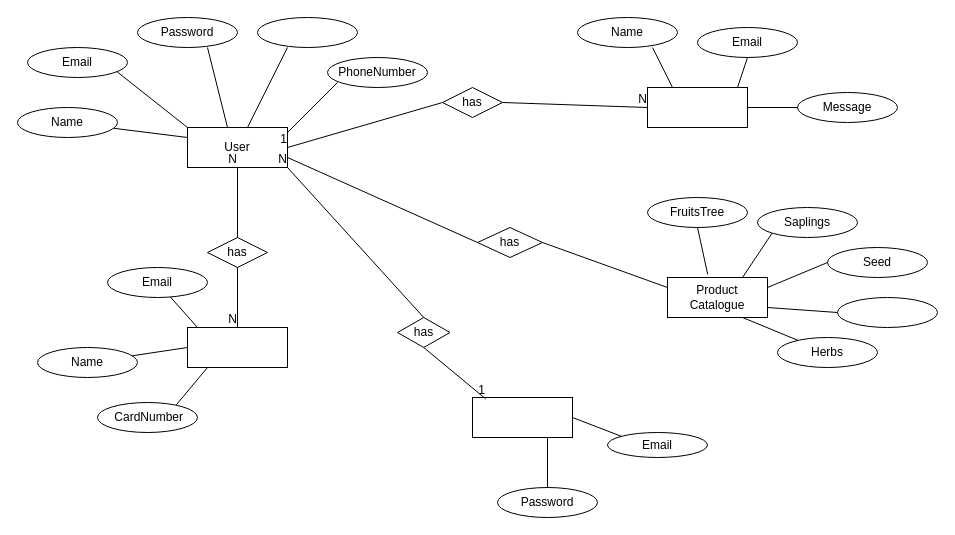
Image size: 955x535. Some labels were removed from this diagram. The centre of each missing label's shape, as x and y in pixels:
Admin: the point at 522,417
ContactUs: the point at 697,107
Payment: the point at 237,347
Requirements: the point at 307,32
Vegetables: the point at 887,312
